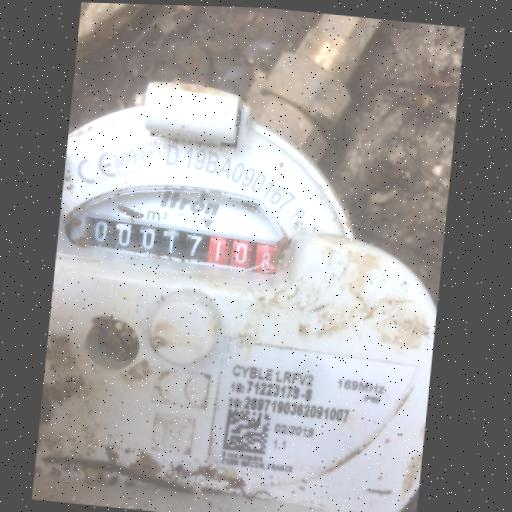0: (89, 218, 112, 248), (113, 221, 135, 251), (230, 239, 252, 269), (137, 225, 157, 254)
1: (207, 236, 229, 265), (160, 229, 180, 258)
7: (184, 233, 203, 261)
8: (254, 242, 278, 274)
border_water_meter_number: (79, 214, 285, 277)
